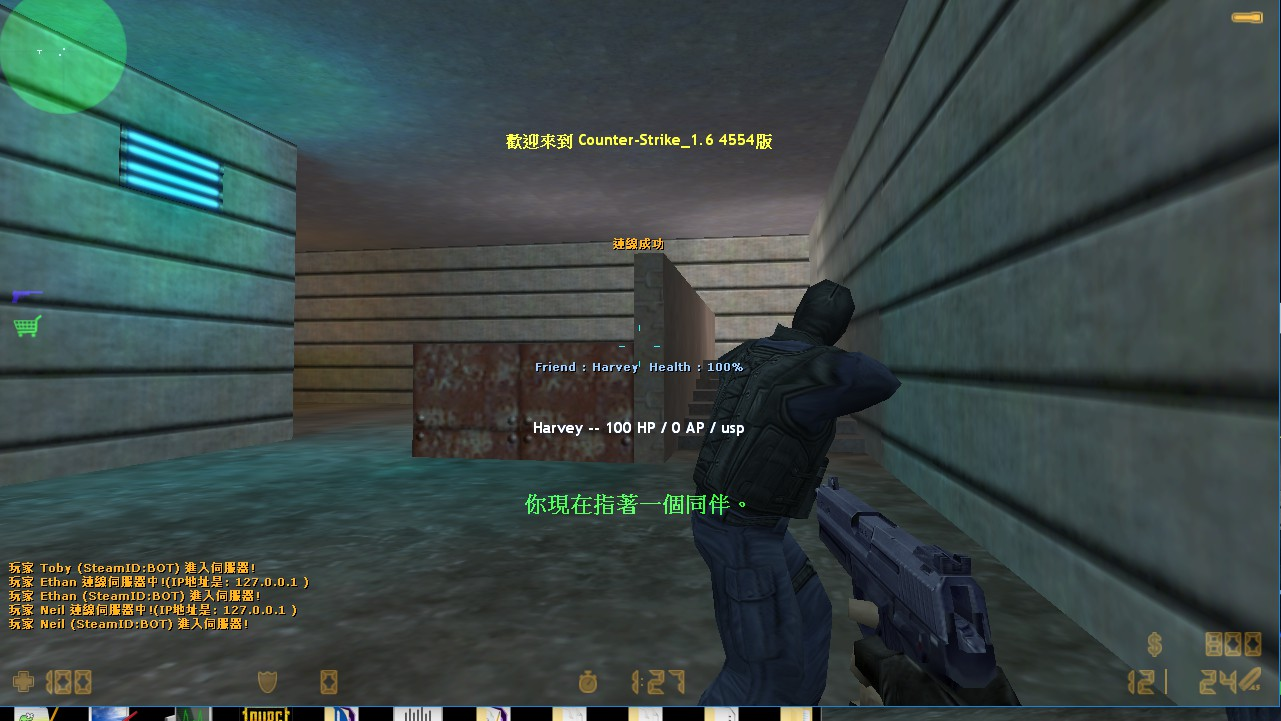person: (687, 269, 855, 680)
